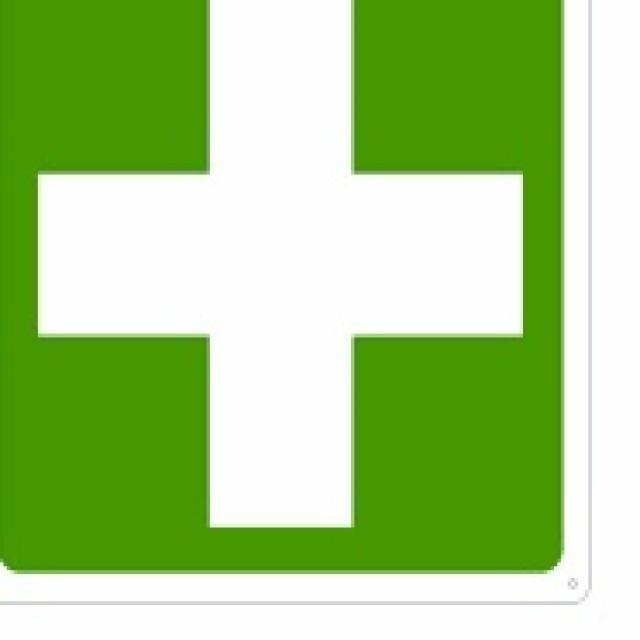first-aid: (2, 0, 558, 578)
